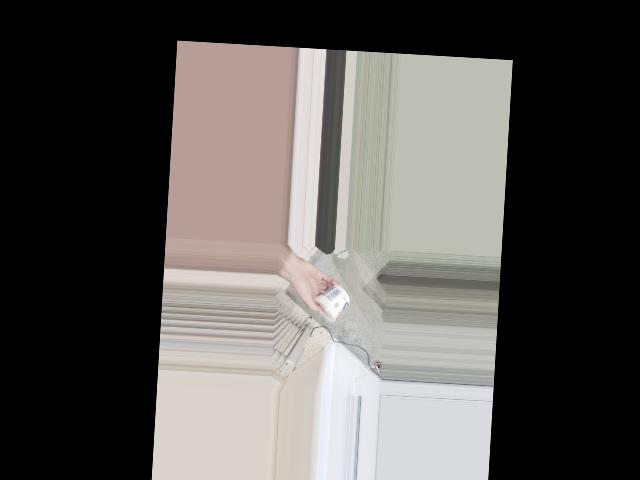cotage: (311, 281, 350, 324)
